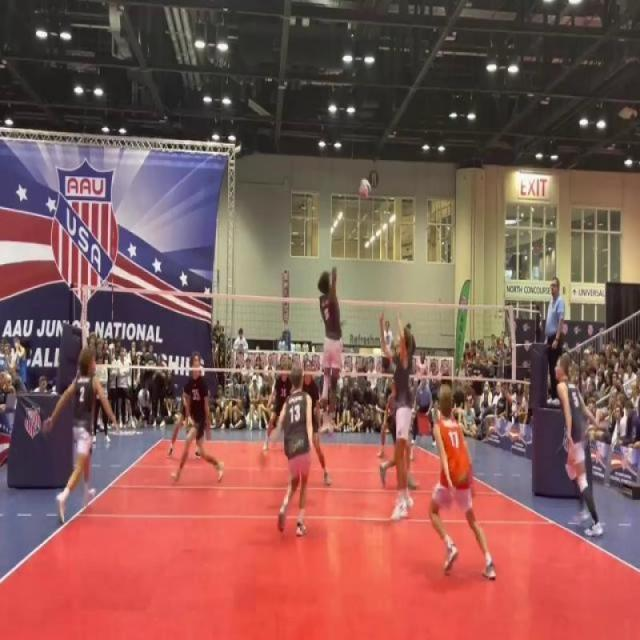volleyball: (358, 178, 372, 202)
